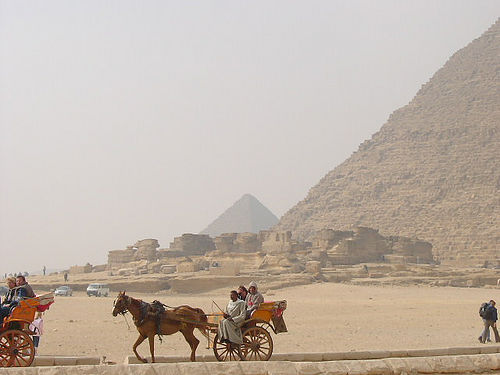horse: (112, 290, 213, 364)
